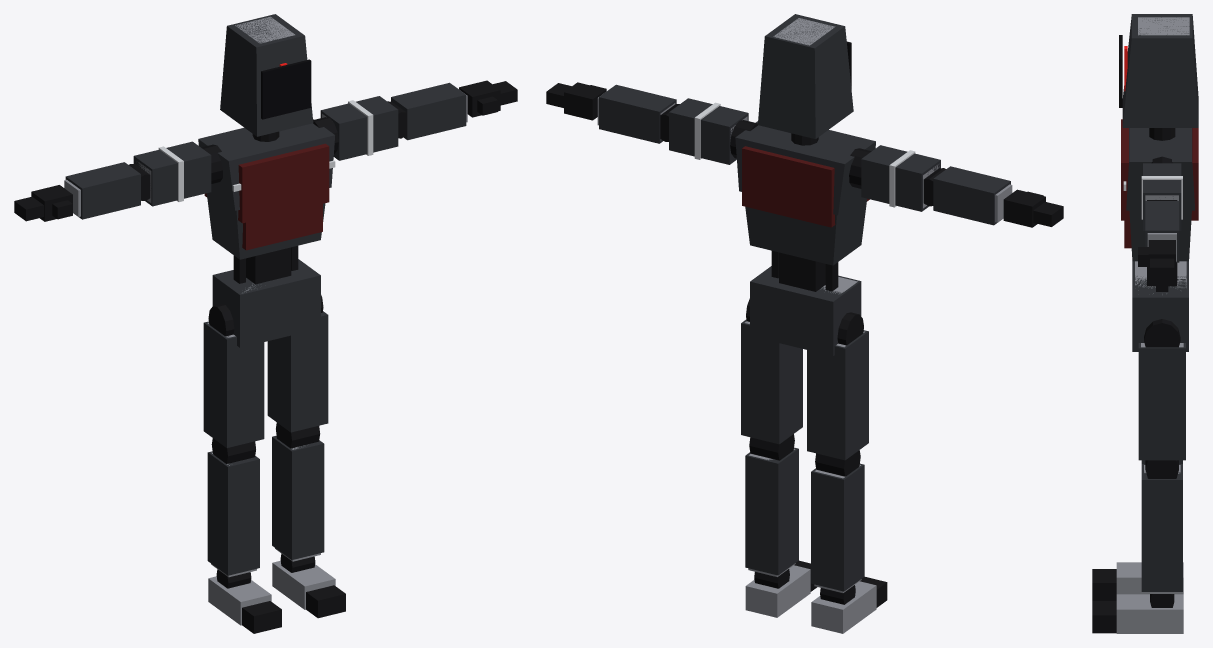
File: char_F2_pilot.obj
3 renders of one model, left to right at view 1: azimuth 30°, elevation 25°; view 2: azimuth 150°, elevation 25°; view 3: azimuth 270°, elevation 25°, orthographic. The views are drawn at different scales.
Parts seen in each view (by area): view 1: FlightSuit, ChassisJoints, Vest_Light, Helmet_Pilot, Chassis, Helmet_Pilot_Visor, FlightSuit_Stripe; view 2: FlightSuit, ChassisJoints, Helmet_Pilot, Chassis, Vest_Light, FlightSuit_Stripe; view 3: FlightSuit, Helmet_Pilot, ChassisJoints, Chassis, Vest_Light, FlightSuit_Stripe, Helmet_Pilot_Visor.
Part boxes in pixels (box(x1,y1,x2,y2)): FlightSuit: box(65, 82, 466, 575); ChassisJoints: box(14, 80, 517, 633); Vest_Light: box(204, 143, 329, 250); Helmet_Pilot: box(220, 14, 313, 136); Chassis: box(64, 16, 467, 625); Helmet_Pilot_Visor: box(261, 59, 311, 119); FlightSuit_Stripe: box(158, 100, 373, 201); FlightSuit: box(599, 84, 1010, 591); ChassisJoints: box(546, 82, 1063, 607); Helmet_Pilot: box(758, 14, 853, 138); Chassis: box(597, 18, 1012, 633); Vest_Light: box(742, 146, 869, 227); FlightSuit_Stripe: box(694, 102, 915, 207); FlightSuit: box(1126, 128, 1194, 591); Helmet_Pilot: box(1122, 14, 1198, 127); ChassisJoints: box(1092, 128, 1180, 633); Chassis: box(1116, 17, 1189, 633); Vest_Light: box(1121, 119, 1198, 248); FlightSuit_Stripe: box(1123, 176, 1182, 219); Helmet_Pilot_Visor: box(1119, 35, 1122, 107).
Bounding box in the file's own units: 1.69 × 1.86 × 0.308.
